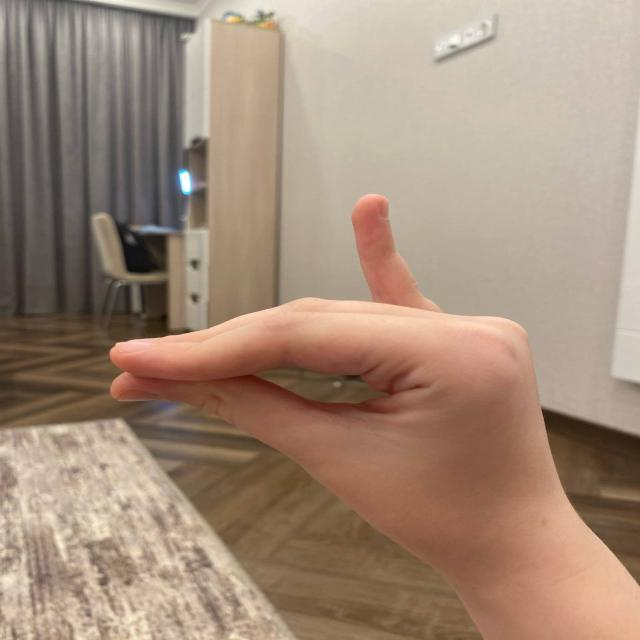iu: (98, 185, 604, 545)
